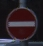No entry: (5, 5, 38, 41)
